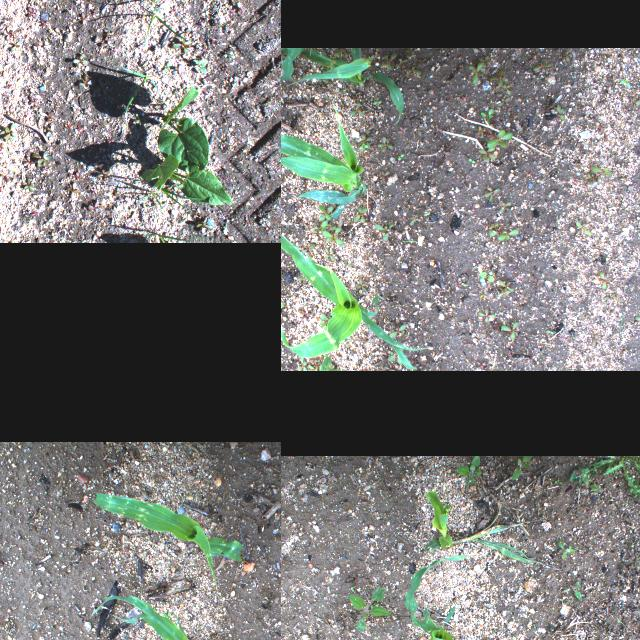crop: (281, 208, 429, 370), (92, 493, 244, 591), (403, 553, 554, 640), (281, 101, 365, 222), (281, 48, 403, 124), (447, 492, 561, 570), (140, 116, 232, 207), (73, 593, 229, 640), (423, 489, 453, 553), (320, 355, 334, 371)
weed: (567, 456, 640, 502), (150, 86, 198, 144), (348, 586, 390, 632), (454, 456, 482, 489), (124, 69, 158, 89), (481, 129, 513, 149), (510, 456, 532, 480), (558, 580, 582, 602), (374, 221, 400, 241), (320, 226, 344, 247), (488, 68, 508, 88), (385, 346, 405, 366), (168, 36, 190, 54), (590, 166, 612, 184), (487, 230, 519, 242), (499, 322, 519, 340), (378, 51, 398, 69), (557, 539, 575, 559), (467, 62, 483, 84), (483, 184, 501, 202), (34, 152, 51, 170), (352, 204, 368, 223), (478, 145, 496, 161), (318, 204, 334, 222), (476, 309, 496, 323), (190, 58, 206, 74), (356, 133, 372, 149), (312, 218, 328, 234), (388, 324, 406, 338), (317, 314, 338, 326), (598, 270, 610, 290), (481, 107, 493, 127), (576, 222, 592, 236), (478, 272, 494, 286), (349, 100, 363, 116), (4, 124, 16, 142), (299, 242, 317, 254), (532, 62, 552, 72), (498, 281, 514, 293), (496, 202, 512, 214), (332, 48, 350, 58), (296, 355, 307, 371), (588, 333, 600, 347), (394, 56, 408, 68), (355, 278, 367, 292), (323, 247, 335, 261), (317, 364, 340, 371), (24, 176, 34, 192), (405, 65, 421, 75), (318, 68, 329, 82), (193, 222, 211, 230), (478, 55, 490, 67), (555, 106, 565, 120), (297, 275, 311, 285), (498, 95, 510, 106), (499, 84, 511, 95), (408, 214, 419, 226), (319, 224, 335, 232), (169, 65, 181, 75), (618, 78, 630, 88), (482, 122, 492, 134), (320, 321, 332, 331), (634, 309, 640, 328), (602, 292, 616, 300), (560, 51, 570, 61), (501, 106, 511, 116), (416, 57, 426, 67), (381, 170, 391, 180), (300, 311, 310, 321), (310, 360, 320, 370), (618, 312, 622, 336), (584, 173, 592, 185), (496, 290, 508, 298), (476, 125, 484, 137), (386, 138, 394, 150), (376, 142, 392, 148), (478, 290, 487, 300), (344, 338, 352, 349), (634, 94, 640, 108), (612, 296, 620, 306), (453, 280, 463, 288), (460, 173, 468, 183), (478, 142, 488, 150), (456, 95, 466, 103), (358, 143, 368, 151), (398, 216, 408, 224), (338, 86, 348, 94), (384, 365, 396, 371), (307, 365, 318, 371), (501, 305, 509, 313), (494, 193, 502, 201), (406, 49, 414, 57), (396, 153, 404, 161), (366, 218, 374, 226), (284, 364, 293, 371), (488, 223, 498, 229), (372, 99, 382, 105), (342, 261, 352, 267), (552, 478, 562, 484), (631, 96, 635, 110), (380, 137, 384, 151), (378, 365, 387, 371), (476, 157, 482, 165), (324, 95, 330, 103), (162, 613, 170, 619), (468, 158, 474, 165), (546, 330, 554, 334), (422, 212, 430, 216), (348, 217, 352, 225), (564, 600, 572, 604), (591, 173, 595, 180), (402, 240, 416, 242), (460, 282, 466, 286), (350, 586, 354, 592), (532, 624, 536, 628), (373, 636, 379, 638)
